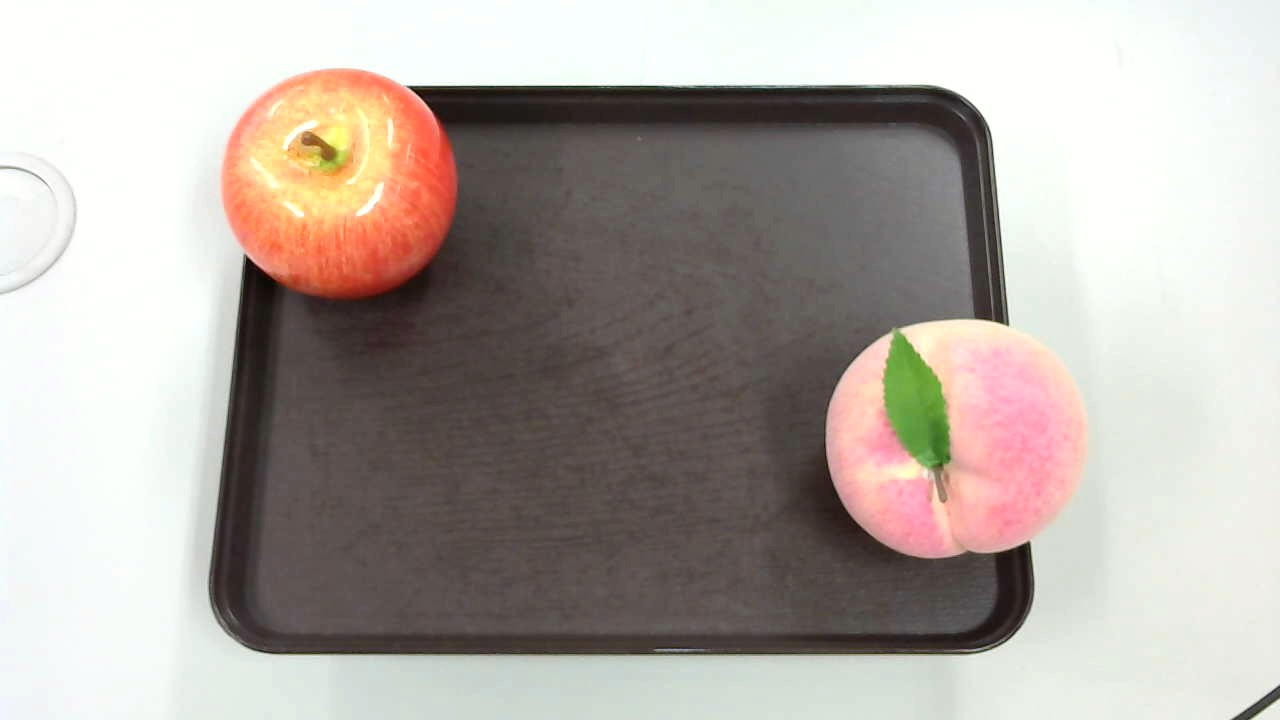peach: (819, 311, 1089, 562)
red apple: (212, 58, 463, 298)
